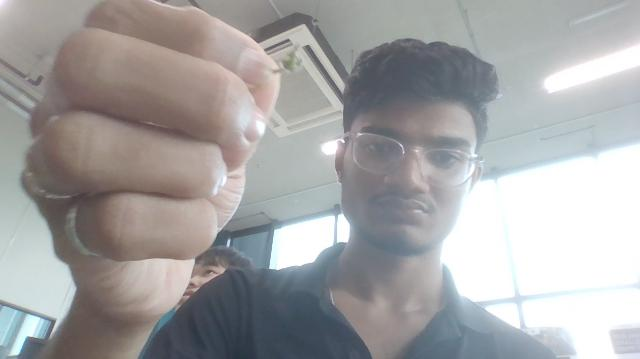Fruit Bud: (273, 43, 304, 76)
